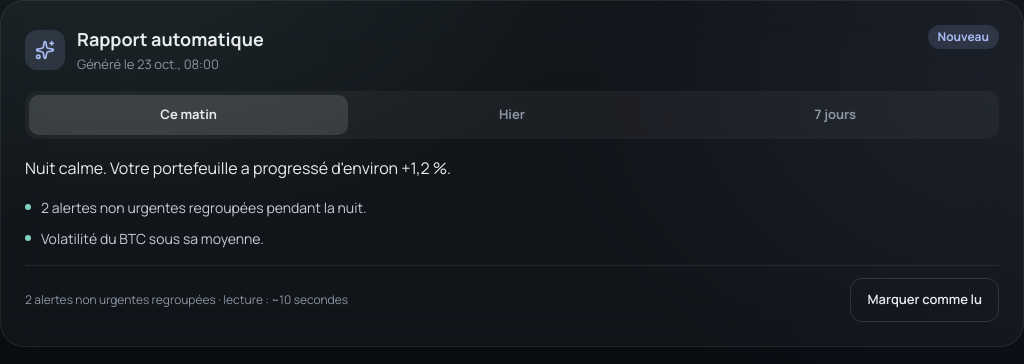
Scenario: DigestCard › mentionne les alertes regroupées par le Mode Nuit, au singulier comme au pluriel
Expected: the text "2 alertes non urgentes regroupées · lecture : ~10 secondes" is shown, [25,292,348,308]
Click the button "Hier": (512, 114) [352,94,672,134]
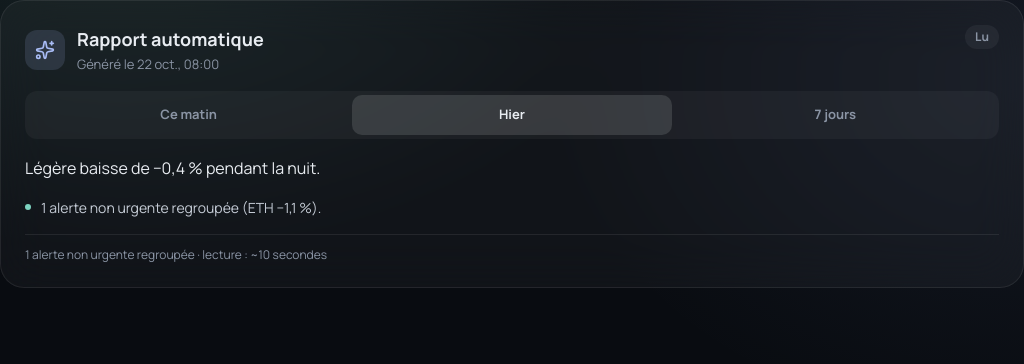
Now the text "1 alerte non urgente regroupée · lecture : ~10 secondes" is shown, box [25,246,327,262]
